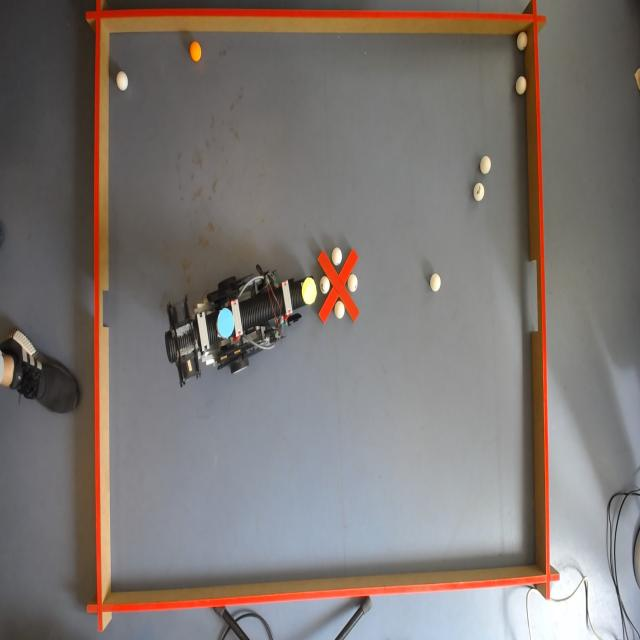orange: (190, 43, 205, 64)
robot: (166, 269, 312, 376)
robot-front: (302, 276, 317, 304)
robot-rear: (218, 307, 234, 338)
white: (116, 71, 128, 94), (431, 271, 444, 292), (515, 76, 527, 96), (516, 32, 528, 52), (332, 247, 344, 266), (479, 156, 491, 174), (333, 300, 345, 318), (348, 274, 358, 294), (474, 185, 485, 202), (320, 276, 330, 294)
